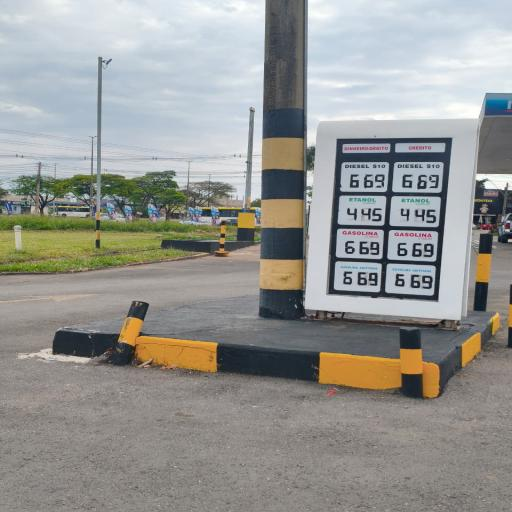ETANOL: (342, 196, 381, 206)
GASOLINA AD: (338, 263, 381, 272)
GASOLINA C: (336, 228, 383, 240)
S10: (342, 162, 389, 171)
placa: (329, 155, 393, 298)
preco: (344, 171, 388, 192), (338, 270, 381, 289), (342, 207, 385, 224), (342, 239, 381, 257)
